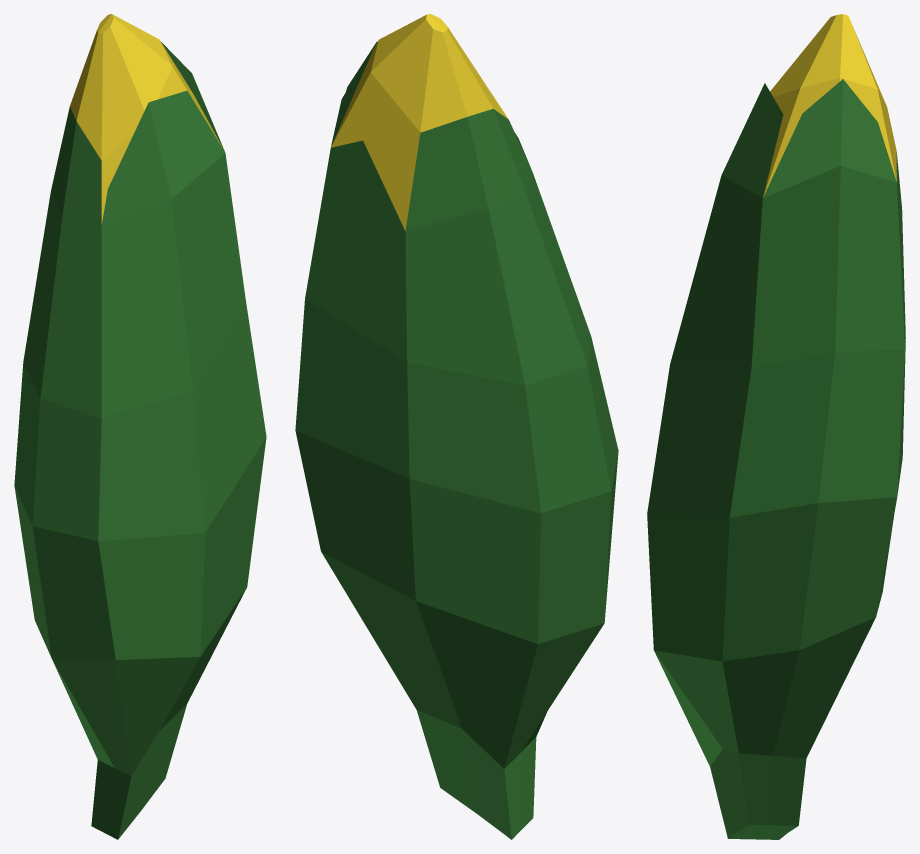
Rendered from main_corn.glb.
The picture shows the model from 3 angles, left to right: view 1: azimuth 30°, elevation 25°; view 2: azimuth 150°, elevation 25°; view 3: azimuth 270°, elevation 25°; orthographic projection. The views are drawn at different scales.
Parts seen in each view (by area): view 1: corn.002; view 2: corn.002; view 3: corn.002.
Boxes of the visible parts, left/top/right/bottom form: corn.002: left=14, top=14, right=266, bottom=839; corn.002: left=295, top=14, right=618, bottom=839; corn.002: left=647, top=14, right=905, bottom=839.
Size of the model in its own units: 0.2915 by 0.8949 by 0.2461.
